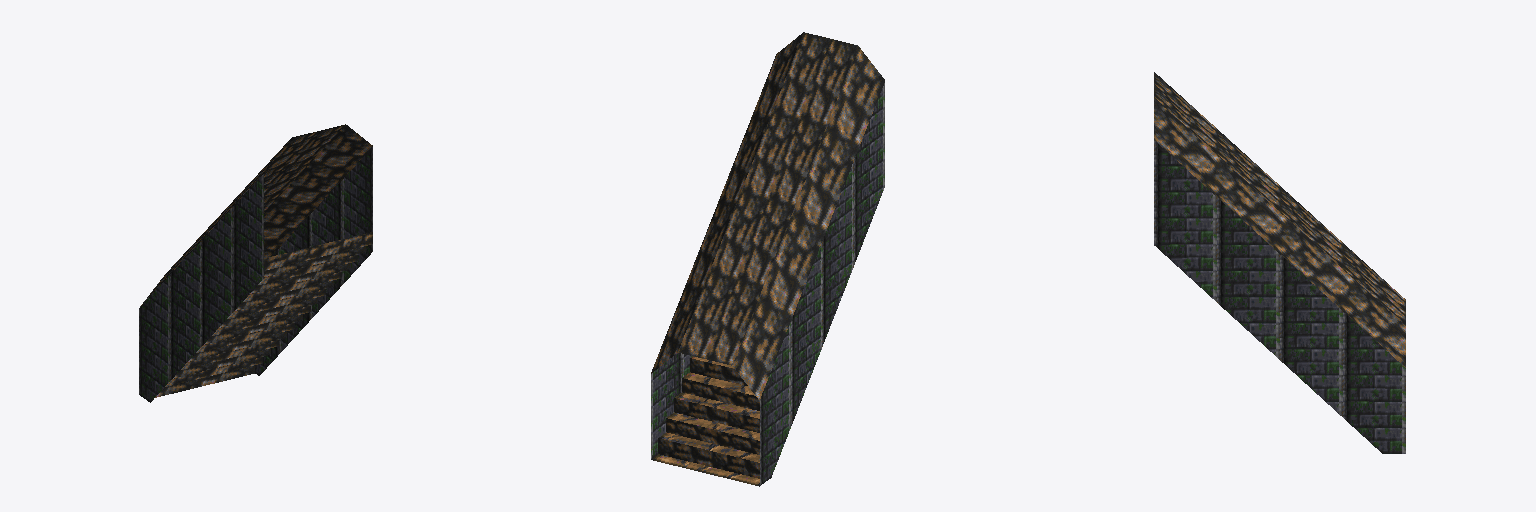
3 views of the same model, side by side, from view 1: azimuth 30°, elevation 25°; view 2: azimuth 150°, elevation 25°; view 3: azimuth 270°, elevation 25° (orthographic).
Visible parts, largest first — view 1: model61118-node_model61118; view 2: model61118-node_model61118; view 3: model61118-node_model61118.
Part boxes in pixels (x1,y1,x2,y2): model61118-node_model61118: (139, 124, 372, 402); model61118-node_model61118: (651, 32, 884, 486); model61118-node_model61118: (1154, 72, 1405, 453).
Size of the model in its own units: 3.2 by 9.6 by 6.4.
Materials: 4 (4 with a texture image).